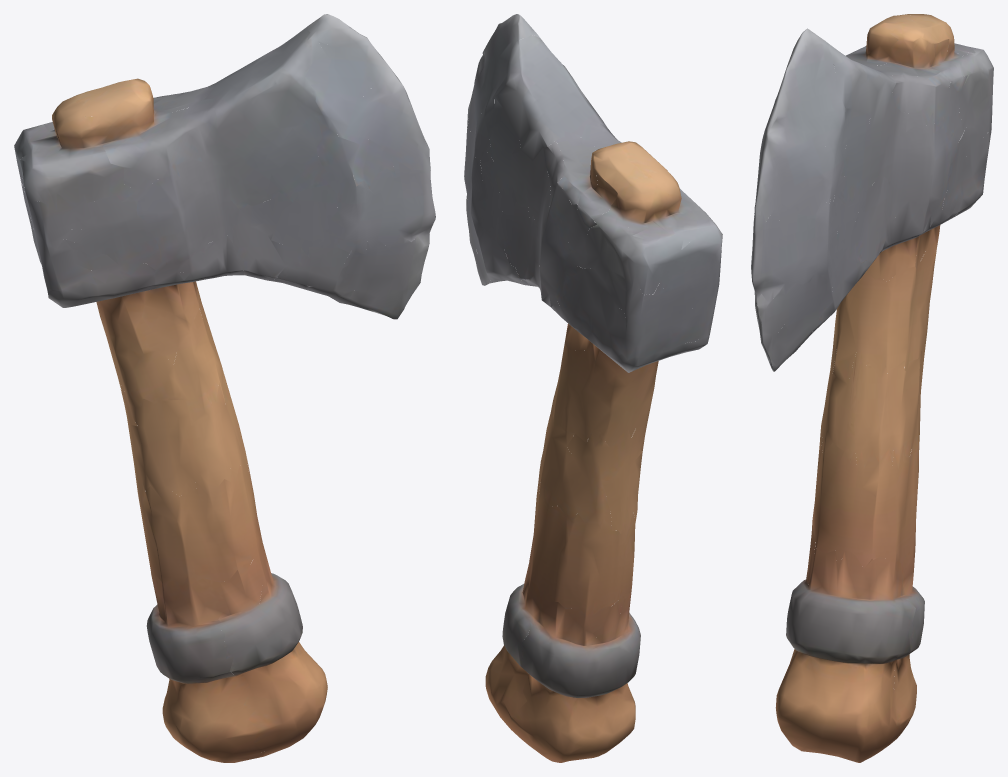
File: Arm_hatchet-4whH9kCU.glb
3 renders of one model, left to right at view 1: azimuth 30°, elevation 25°; view 2: azimuth 150°, elevation 25°; view 3: azimuth 270°, elevation 25°, orthographic. The views are drawn at different scales.
Visible parts, largest first — view 1: Arm_hatchet; view 2: Arm_hatchet; view 3: Arm_hatchet.
Boxes of the visible parts, x1,y1,x2,y2 form: Arm_hatchet: (14,14,435,762); Arm_hatchet: (464,14,722,762); Arm_hatchet: (751,14,993,762).
Size of the model in its own units: 0.629 by 1.3 by 0.3786.
1 material, 1 textured.
